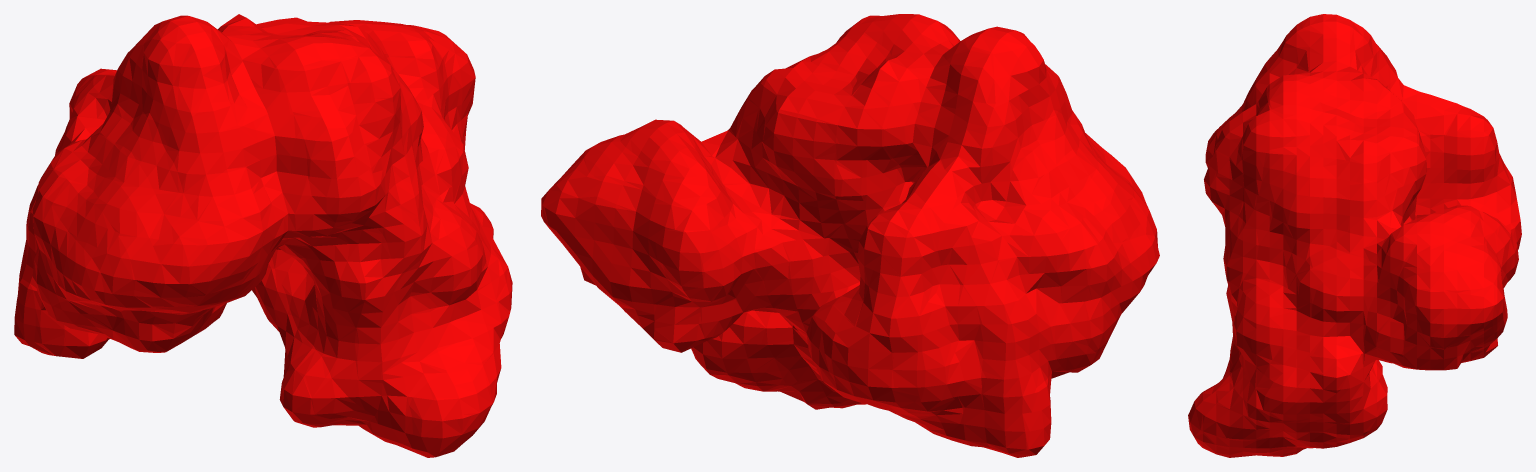
File: uvrB_coarse.dae
3 views of the same model, side by side, from view 1: azimuth 30°, elevation 25°; view 2: azimuth 150°, elevation 25°; view 3: azimuth 270°, elevation 25° (orthographic). The views are drawn at different scales.
Parts seen in each view (by area): view 1: uvrB; view 2: uvrB; view 3: uvrB.
Part boxes in pixels (x1,y1,x2,y2): uvrB: (14, 14, 512, 457); uvrB: (541, 14, 1159, 457); uvrB: (1188, 14, 1521, 457).
Bounding box in the file's own units: 90.64 × 77.19 × 64.71.
